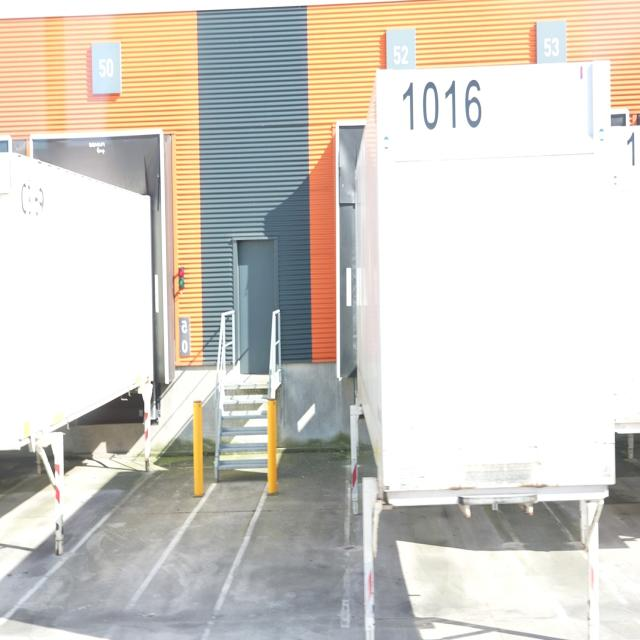Code: (399, 76, 491, 144)
